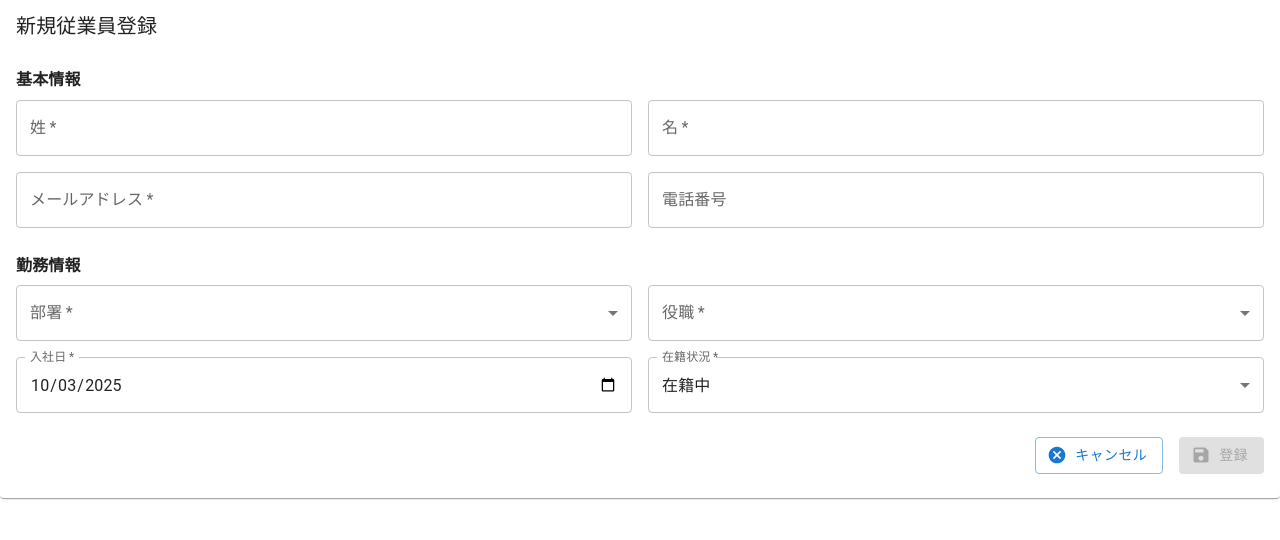
EmployeeForm › validates email format
In the field labelled "メールアドレス *": (324, 200) x1=16 y1=172 x2=632 y2=228, type "invalid-email"
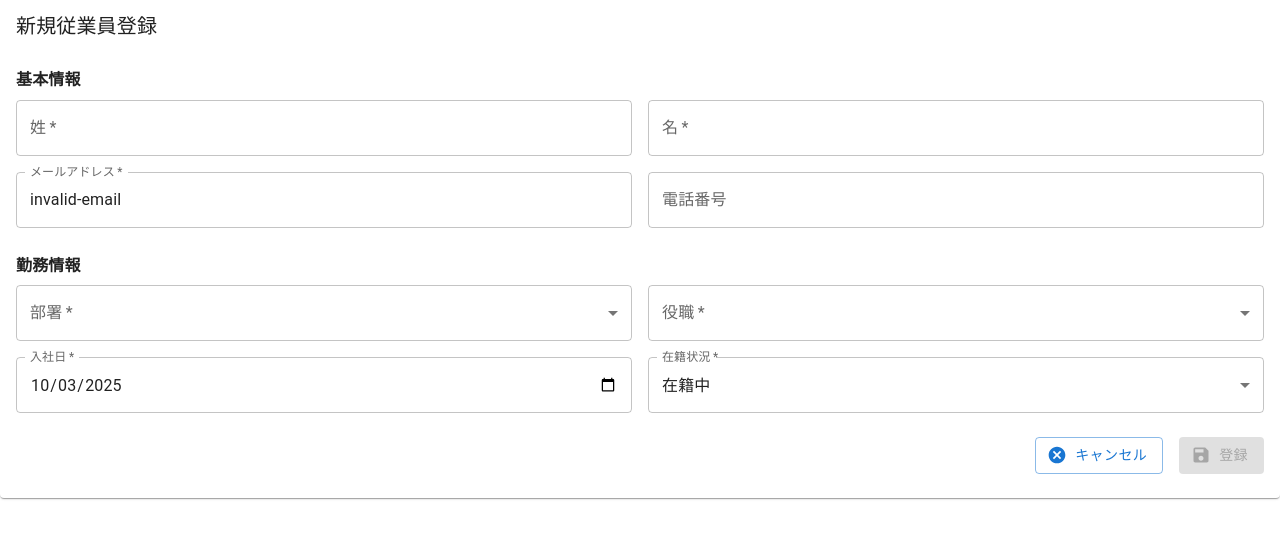
Leave the field labelled "メールアドレス *", box x1=16 y1=172 x2=632 y2=228
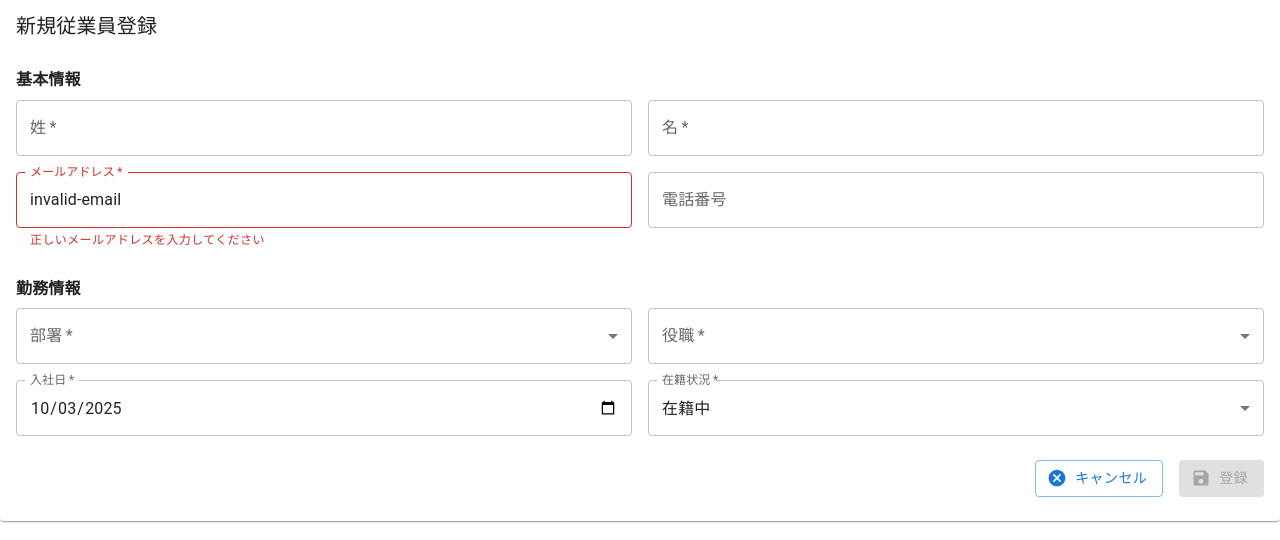
Check: the text "正しいメールアドレスを入力してください" is shown, box x1=30 y1=233 x2=265 y2=247
